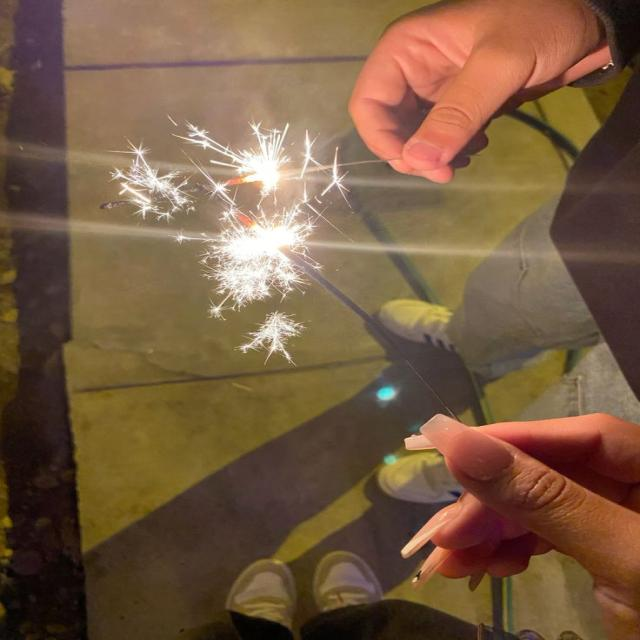fire: (199, 225, 305, 299), (291, 131, 353, 233), (234, 142, 290, 196), (243, 310, 300, 360)
